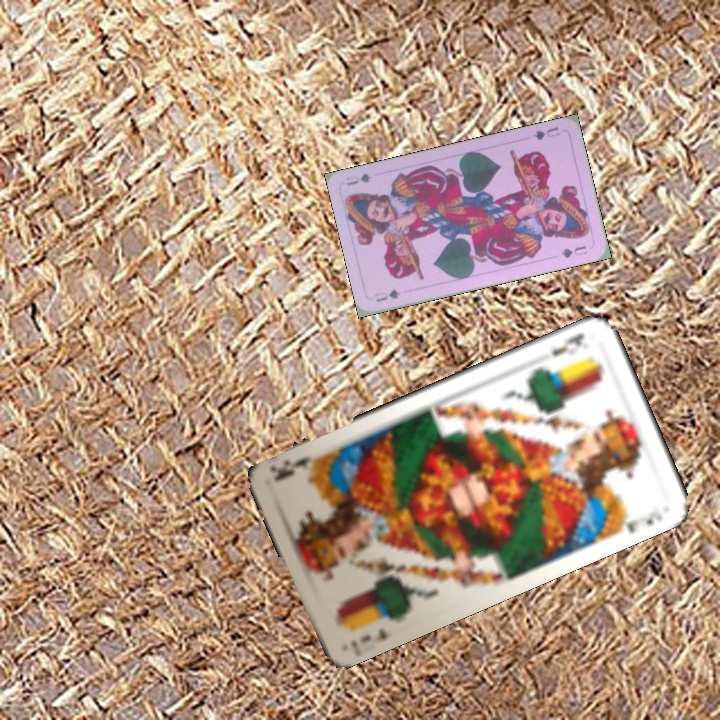EK: (547, 328, 591, 359), (347, 624, 391, 655)
GU: (529, 123, 563, 143), (371, 285, 403, 305)
